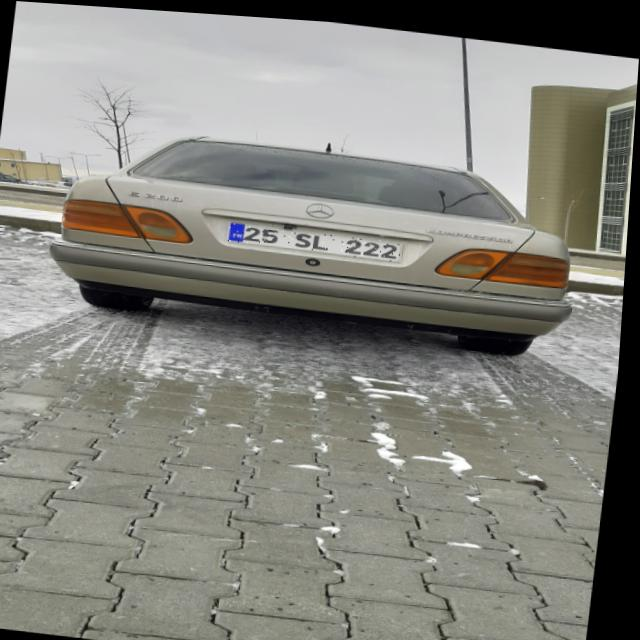license_plate: (229, 219, 407, 257)
